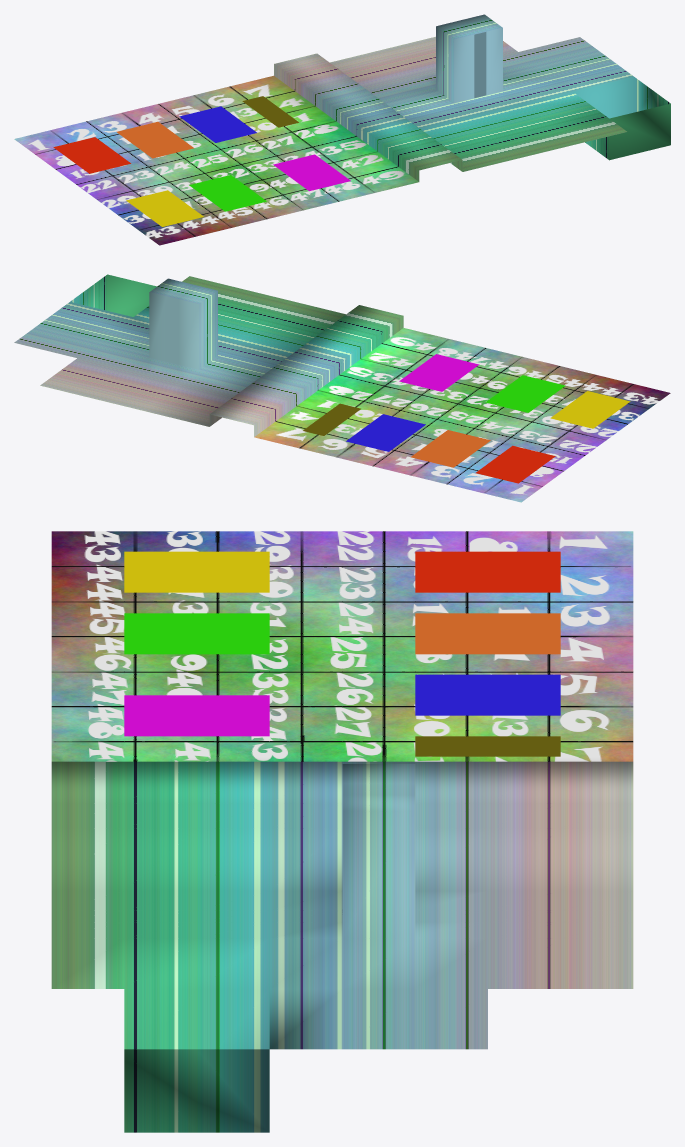
File: beta suelo.fbx
3 renders of one model, top to bottom at view 1: azimuth 30°, elevation 25°; view 2: azimuth 150°, elevation 25°; view 3: azimuth 270°, elevation 25°, orthographic. The views are drawn at different scales.
Parts seen in each view (by area): view 1: Plane, Plane.002, Plane.003, Plane.004, Plane.005, Plane.006, Plane.001, Plane.008, Plane.007; view 2: Plane, Plane.005, Plane.001, Plane.004, Plane.002, Plane.003, Plane.006, Plane.007; view 3: Plane, Plane.001, Plane.002, Plane.003, Plane.004, Plane.005, Plane.006, Plane.007.
Part boxes in pixels (x1,y1,x2,y2): Plane: (14,14,670,245); Plane.002: (179,106,256,142); Plane.003: (189,175,266,211); Plane.004: (273,154,350,191); Plane.005: (126,190,203,226); Plane.006: (117,121,193,158); Plane.001: (53,137,130,173); Plane.008: (474,32,486,97); Plane.007: (242,96,298,127); Plane: (14,274,670,502); Plane.005: (550,391,630,428); Plane.001: (476,445,555,483); Plane.004: (399,354,479,391); Plane.002: (346,414,425,451); Plane.003: (485,375,565,412); Plane.006: (411,430,490,467); Plane.007: (303,403,360,435); Plane: (51,531,633,1132); Plane.001: (415,551,560,592); Plane.002: (415,674,560,715); Plane.003: (124,613,269,654); Plane.004: (124,695,269,736); Plane.005: (124,551,269,592); Plane.006: (415,613,560,654); Plane.007: (415,736,560,756).
Bounding box in the file's own units: 4205 × 799 × 2000.
